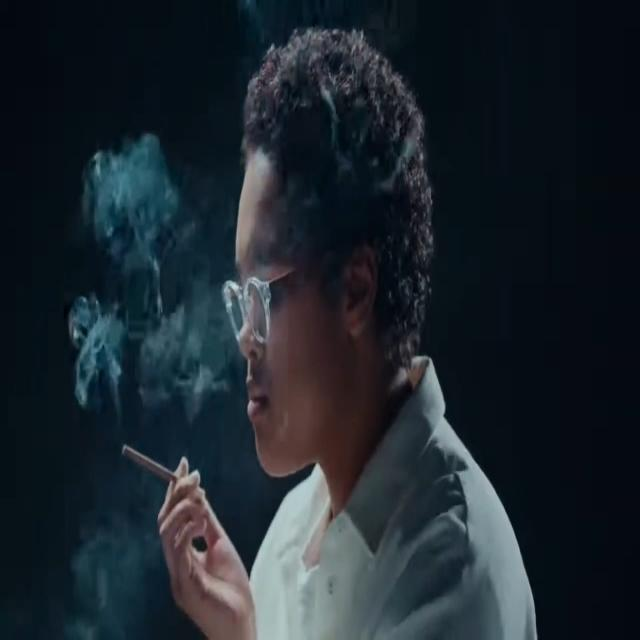Курение: (114, 435, 202, 506)
